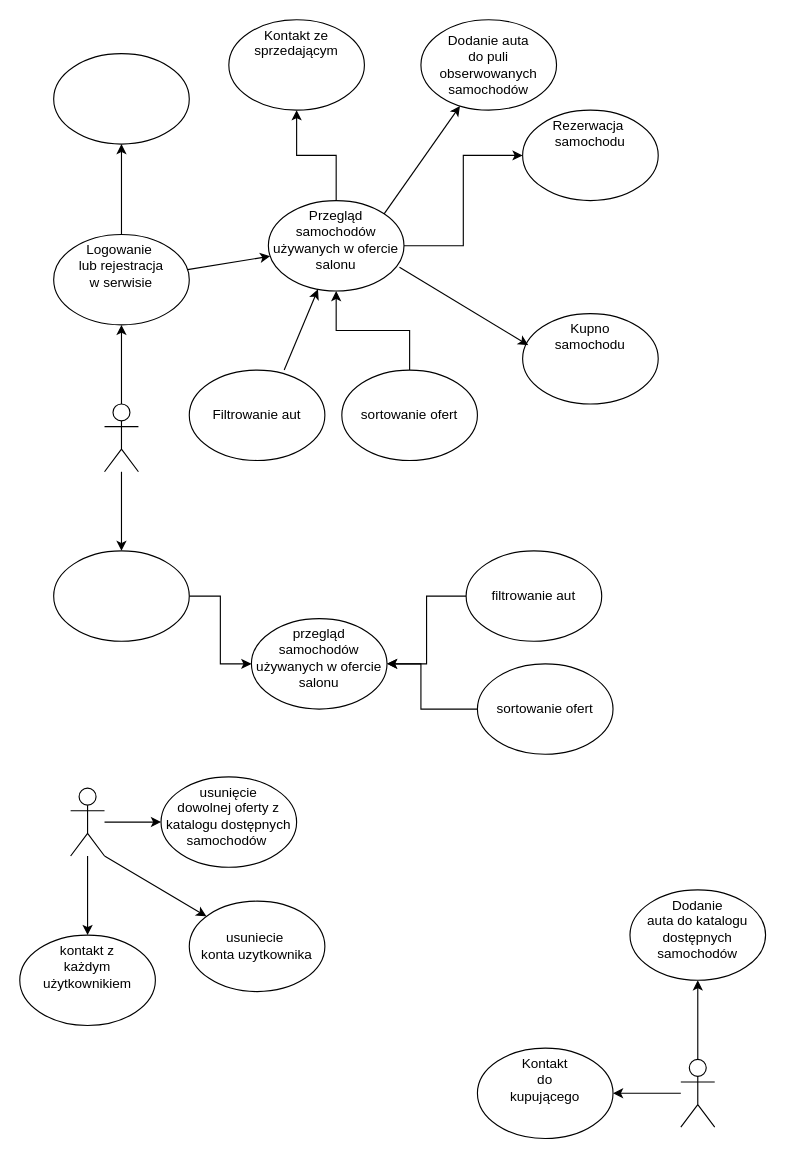
This 794x1171 diagram has some shape labels left out. Each missing label, with the centre of its shape:
"bez logowania lub rejestracji" goes at point 121,595.
"Klient" goes at point 120,437.
"Moderator serwisu" goes at point 87,821.
"Sprzedawca danego auta" goes at point 697,1092.
"Szybki podgląd ofert obserwowanych" goes at point 121,98.
